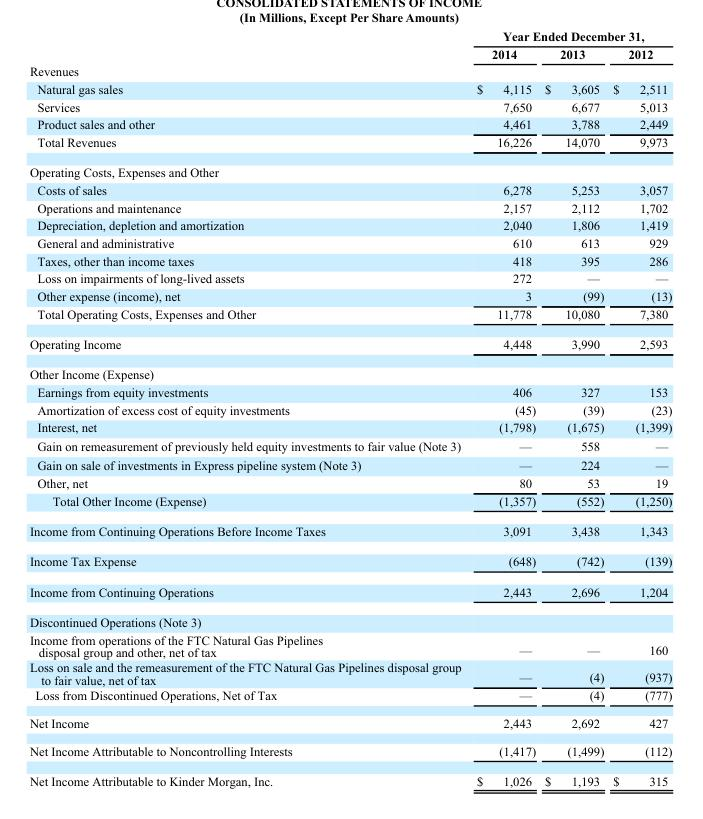table: (28, 28, 671, 787)
table column: (28, 28, 468, 787), (468, 28, 539, 787), (539, 28, 607, 787), (607, 28, 671, 787)
table column header: (28, 28, 671, 62)
table projected row header: (28, 157, 671, 181), (28, 359, 671, 383), (28, 606, 671, 630), (28, 62, 671, 80)
table row: (28, 328, 671, 359), (28, 545, 671, 576), (28, 515, 671, 545), (28, 576, 671, 606), (28, 630, 671, 659), (28, 736, 671, 765), (28, 659, 671, 687), (28, 708, 671, 736), (28, 133, 671, 157), (28, 157, 671, 181), (28, 304, 671, 328), (28, 359, 671, 383), (28, 491, 671, 515), (28, 606, 671, 630), (28, 765, 671, 787), (28, 687, 671, 708), (28, 436, 671, 455), (28, 44, 671, 62), (28, 62, 671, 80), (28, 97, 671, 115), (28, 115, 671, 133), (28, 198, 671, 216), (28, 216, 671, 234), (28, 251, 671, 269), (28, 269, 671, 287), (28, 400, 671, 418), (28, 418, 671, 436), (28, 455, 671, 473), (28, 473, 671, 491), (28, 80, 671, 97), (28, 181, 671, 198), (28, 234, 671, 251), (28, 287, 671, 304), (28, 383, 671, 400), (28, 28, 671, 44)
table spanning cell: (468, 28, 671, 44)
